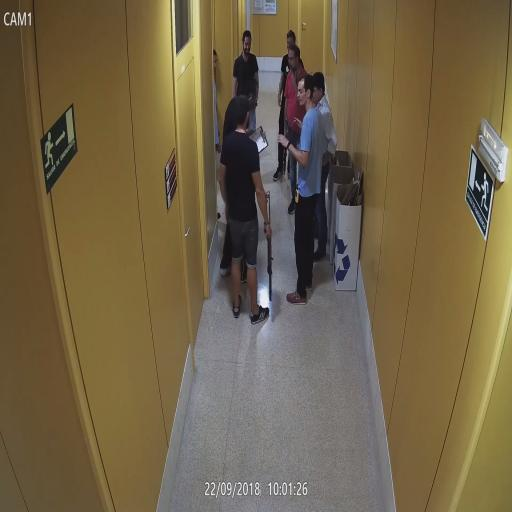Handgun: (284, 113, 290, 140)
